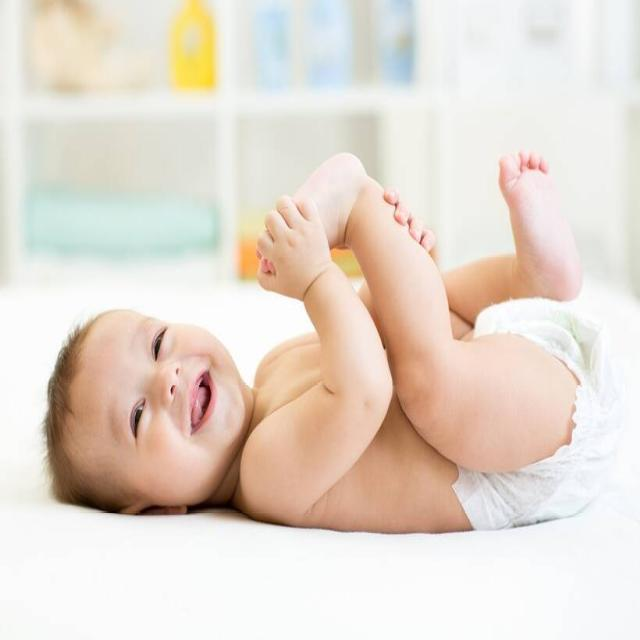non-dog: (38, 143, 620, 539)
